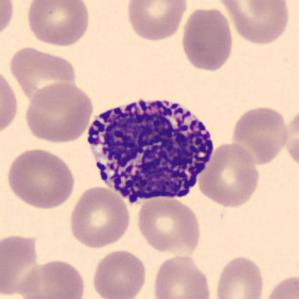Basophil: (80, 88, 220, 210)
RBC: (4, 145, 77, 211), (22, 80, 95, 144), (196, 140, 262, 209), (7, 44, 78, 106), (67, 184, 132, 250), (134, 195, 202, 256), (178, 5, 235, 73), (229, 103, 291, 165), (214, 0, 292, 45), (24, 0, 92, 48), (89, 247, 148, 299), (16, 257, 88, 299), (0, 232, 45, 299), (150, 253, 214, 299), (124, 0, 190, 43), (212, 253, 266, 299), (0, 63, 21, 137), (278, 109, 299, 166), (262, 272, 298, 299), (0, 0, 16, 42)
